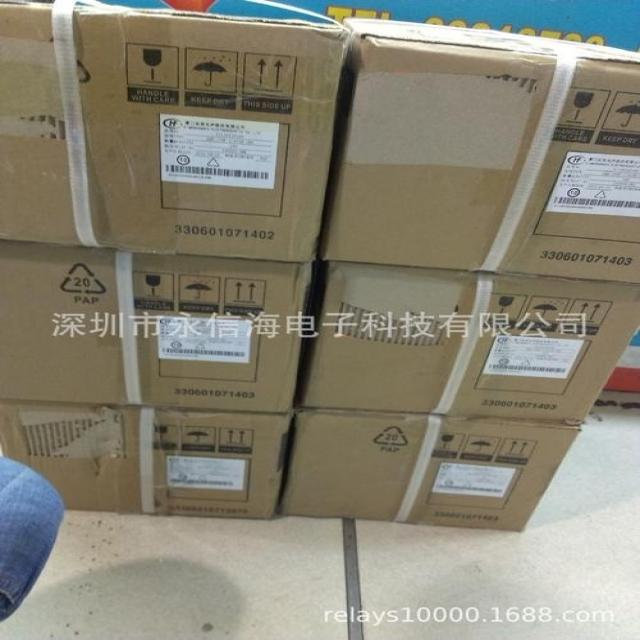box: (1, 0, 344, 262), (324, 18, 639, 282), (300, 261, 639, 426), (0, 240, 321, 413), (278, 408, 582, 532), (0, 401, 291, 520)
